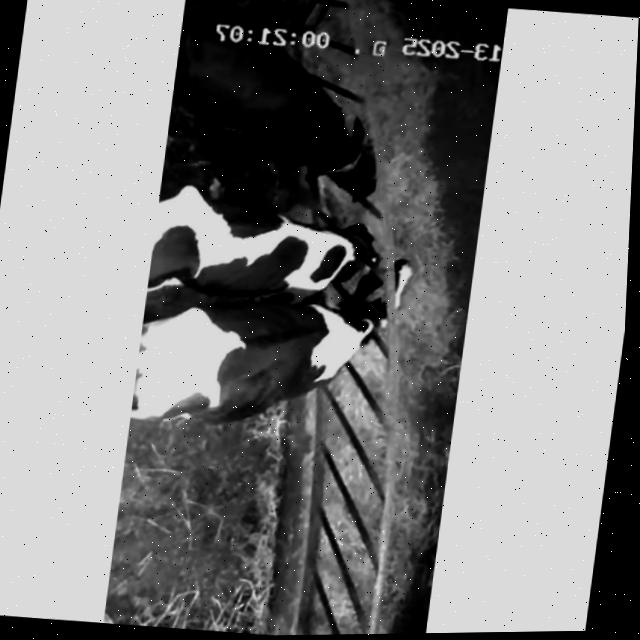eat: (236, 74, 461, 225), (280, 242, 436, 414), (212, 209, 396, 293)
